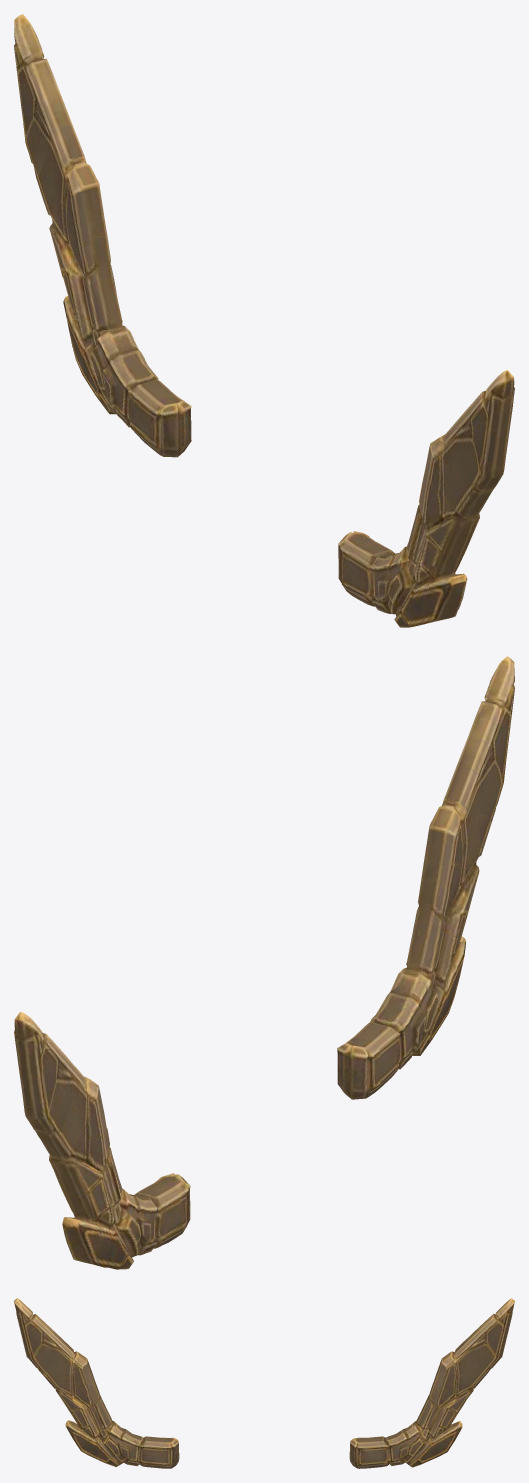
File: rank-2-lean-256.glb
3 renders of one model, top to bottom at view 1: azimuth 30°, elevation 25°; view 2: azimuth 150°, elevation 25°; view 3: azimuth 270°, elevation 25°, orthographic. The views are drawn at different scales.
Parts seen in each view (by area): view 1: chassis; view 2: chassis; view 3: chassis.
Part boxes in pixels (left/top/right/bottom): chassis: left=14, top=14, right=514, bottom=627; chassis: left=14, top=656, right=514, bottom=1269; chassis: left=14, top=1298, right=514, bottom=1468.
Bounding box in the file's own units: 0.0409 × 0.3033 × 0.8199.
Materials: 1 (1 with a texture image).
